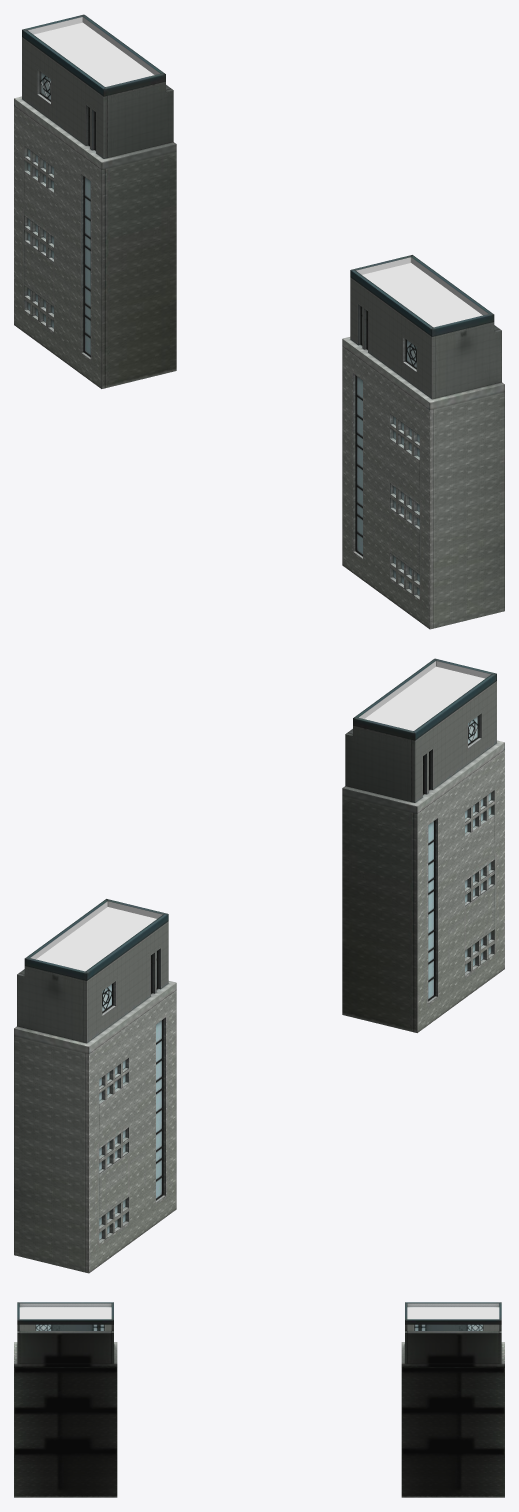
The model's file is teaching_A4Texture.glb.
The picture shows the model from 3 angles, top to bottom: view 1: azimuth 30°, elevation 25°; view 2: azimuth 150°, elevation 25°; view 3: azimuth 270°, elevation 25°; orthographic projection. The views are drawn at different scales.
Parts seen in each view (by area): view 1: 教学楼A4; view 2: 教学楼A4; view 3: 教学楼A4.
Boxes of the visible parts, box(x1,y1,x2,y2) form: 教学楼A4: box(14, 14, 504, 629); 教学楼A4: box(14, 658, 504, 1273); 教学楼A4: box(14, 1302, 504, 1497).
Size of the model in its own units: 4.4 by 16.6 by 42.24.
1 material, 1 textured.
